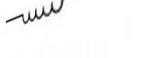inductor: (16, 0, 66, 23)
